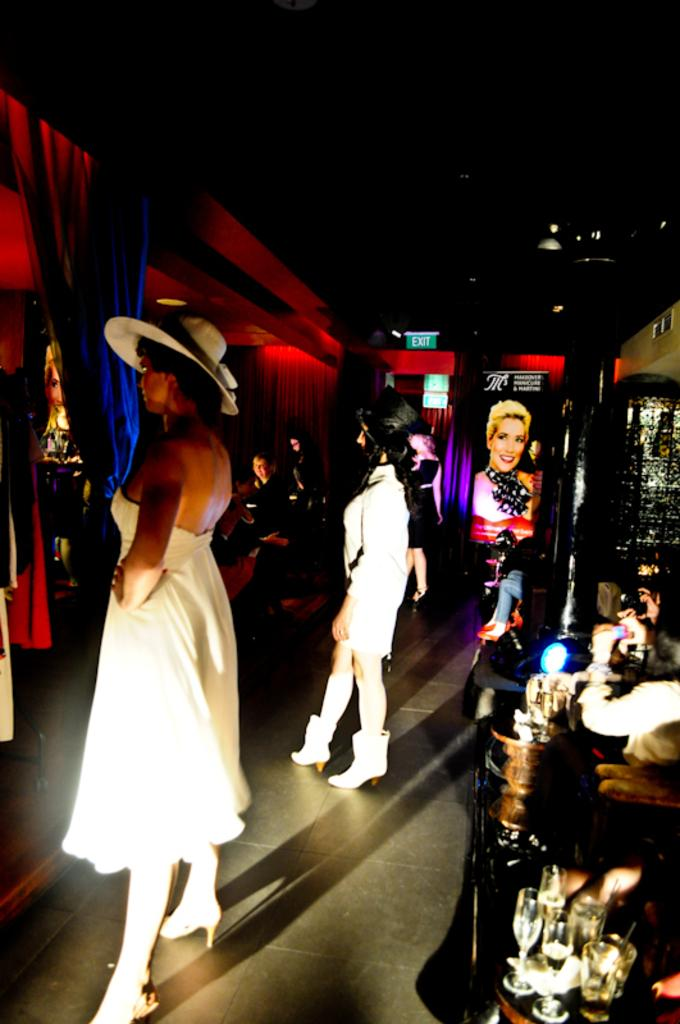Hat: (100, 300, 252, 440)
